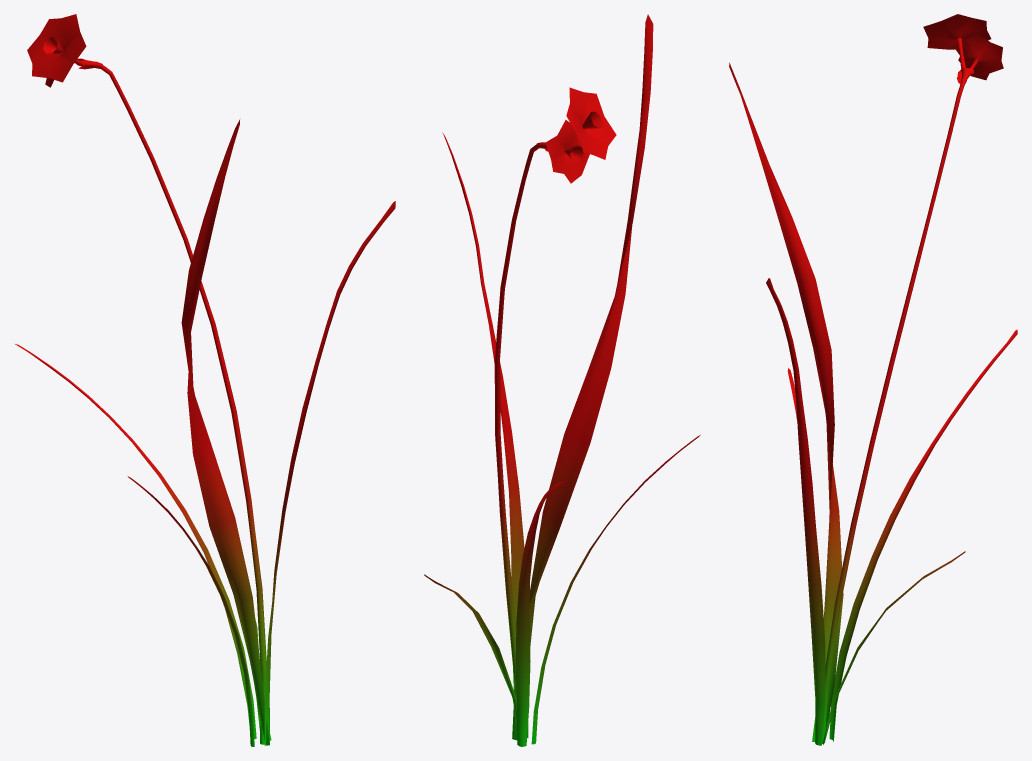
File: Rush Daffodil_LOD1_Var7_wftgfjaia.fbx
3 views of the same model, side by side, from view 1: azimuth 30°, elevation 25°; view 2: azimuth 150°, elevation 25°; view 3: azimuth 270°, elevation 25° (orthographic). The views are drawn at different scales.
Visible parts, largest first — view 1: _4pbn_var7_LOD1; view 2: _4pbn_var7_LOD1; view 3: _4pbn_var7_LOD1.
Part boxes in pixels (x1,y1,x2,y2): _4pbn_var7_LOD1: [15, 14, 395, 746]; _4pbn_var7_LOD1: [424, 14, 700, 746]; _4pbn_var7_LOD1: [729, 14, 1017, 745].
Size of the model in its own units: 13.62 by 35.32 by 13.69.
